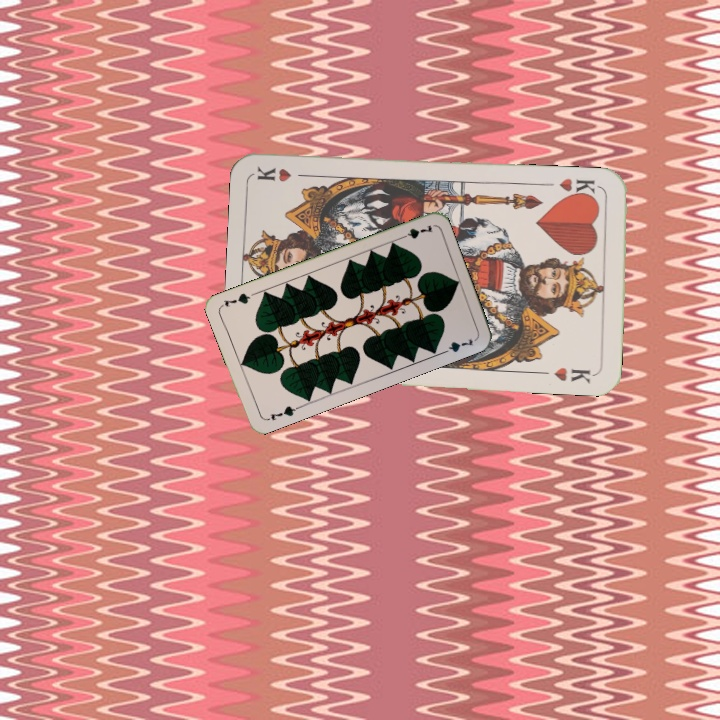G7: (395, 221, 436, 242), (262, 402, 301, 423)
HK: (556, 174, 604, 201)
